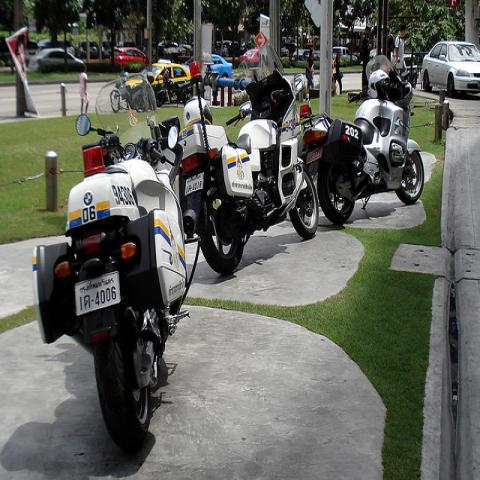car: (418, 42, 480, 99), (126, 61, 191, 95), (28, 48, 85, 72), (184, 55, 234, 78), (110, 47, 145, 63), (80, 40, 105, 60), (400, 54, 418, 79), (24, 46, 44, 64), (333, 48, 357, 62), (240, 48, 260, 61), (292, 49, 309, 61), (157, 40, 177, 49), (222, 41, 231, 58)
motorcycle: (32, 72, 189, 456), (179, 71, 323, 277), (300, 57, 426, 222)
